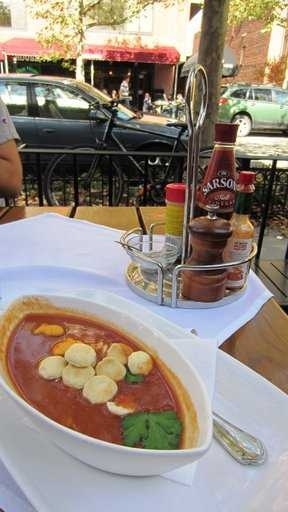dw: (1, 293, 213, 465)
